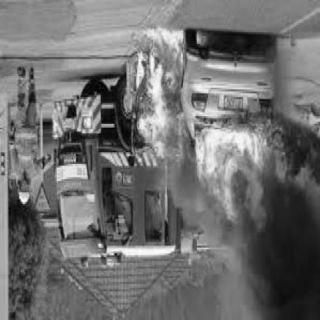Fire: (88, 32, 290, 260)
Smoke: (238, 216, 312, 314)
